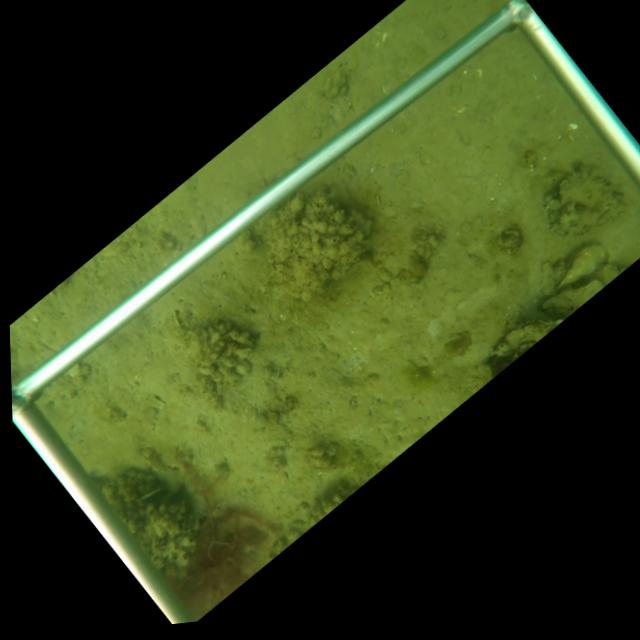Oyster-Closed: (488, 317, 566, 354), (554, 241, 611, 288), (538, 276, 606, 315)
Oyster-Indeterminate: (543, 166, 634, 236)
